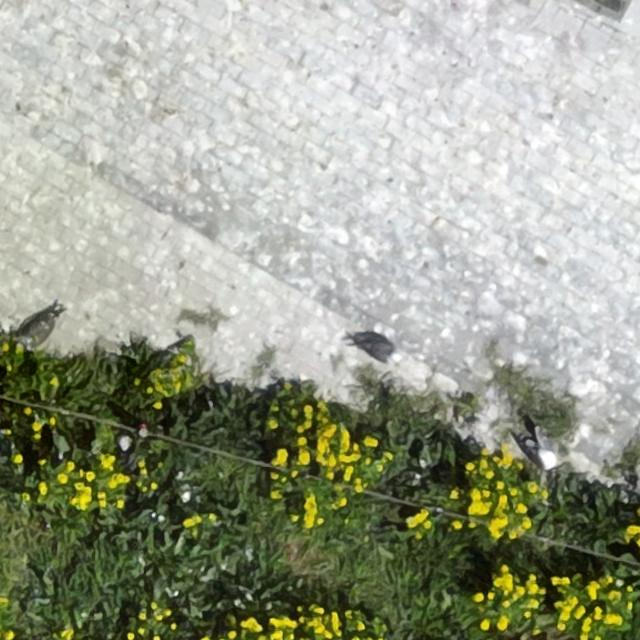umineko: (532, 423, 564, 469), (21, 311, 62, 342), (356, 338, 399, 362)
